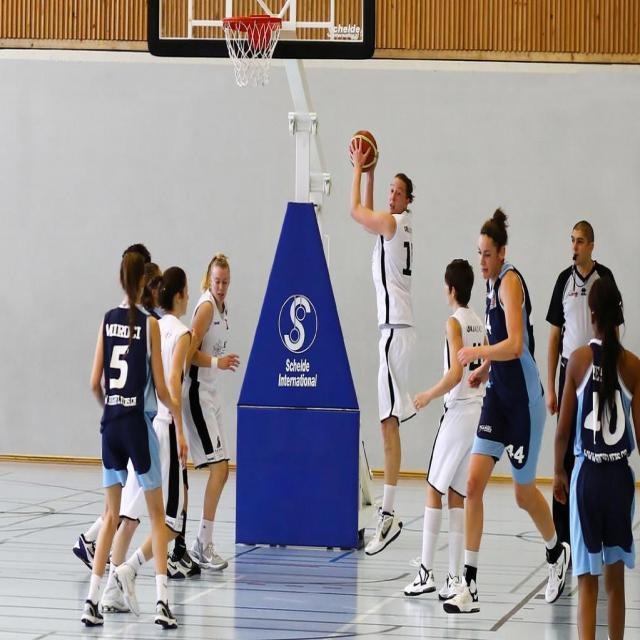rim: (350, 128, 378, 169)
